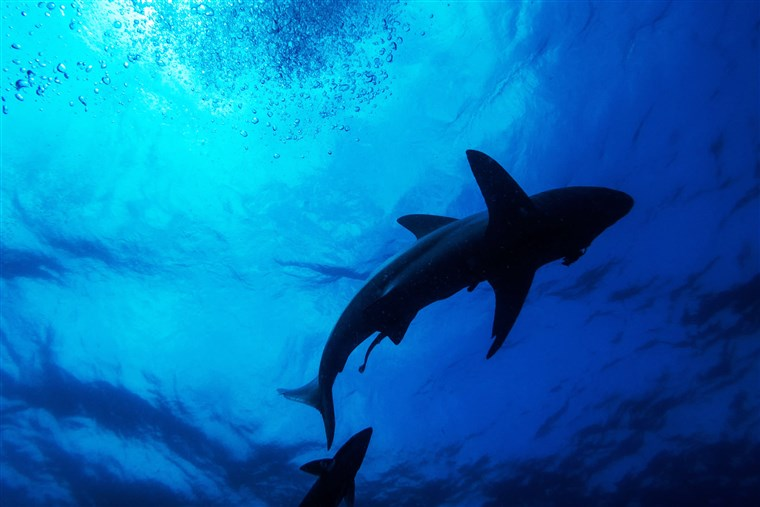shark: (277, 150, 639, 446)
